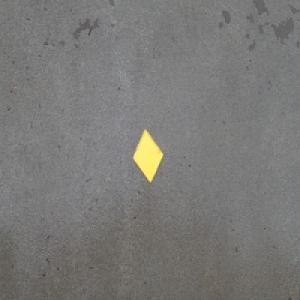PlasticPart: (132, 127, 164, 184)
